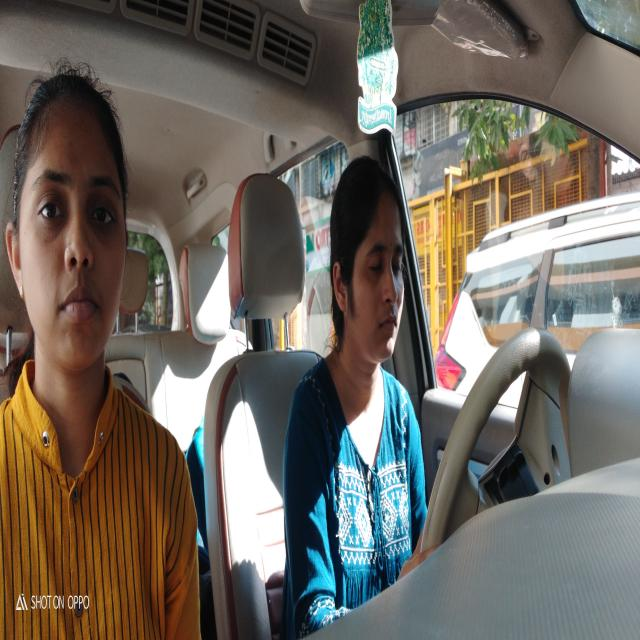drowsy: (322, 150, 414, 369)
person: (5, 59, 134, 388)
